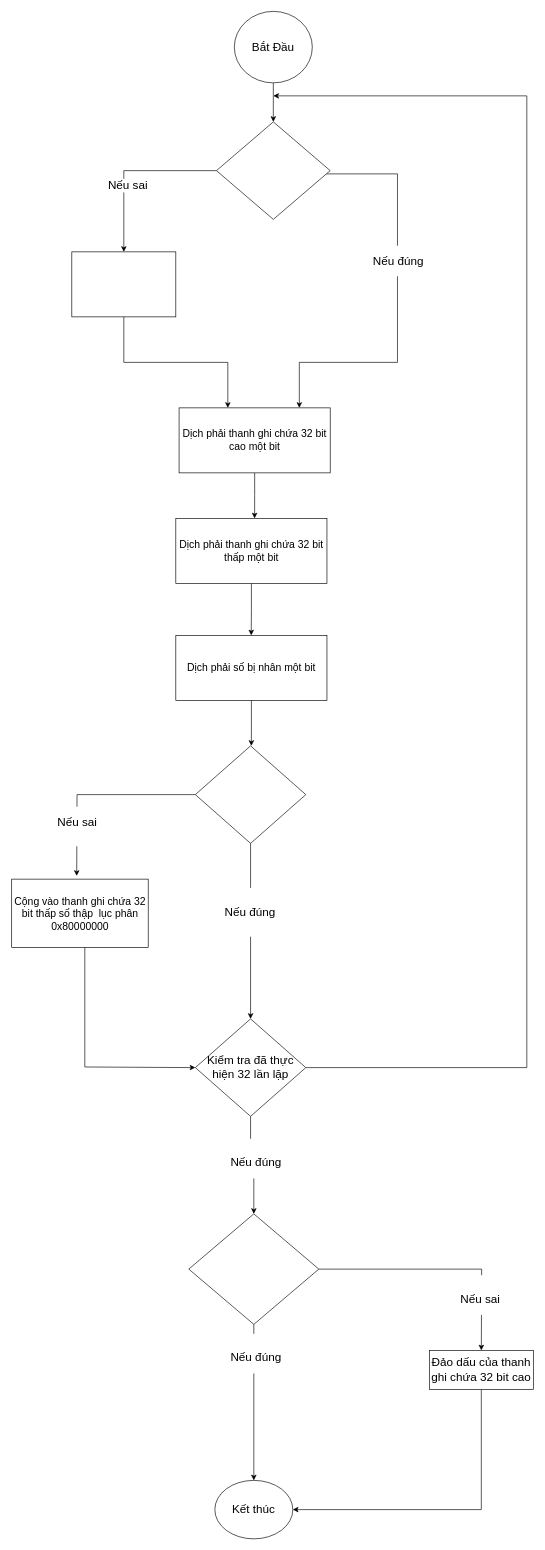
The diagram is 545 pixels wide and 1550 high, and some of its shapes have lost their labels. The centre of each missing label's shape, as x and y in pixels:
"Cộng số bị nhân vào thanh ghi chứa 32 bit cao" goes at point (123, 284).
"Kiểm tra bit cuối 32 bit cao bằng 0" goes at point (250, 794).
"Kiểm tra bit cuối số bị nhân bằng 0." goes at point (273, 170).
"Kiểm tra só nhân và số bị nhân cùng dấu" goes at point (253, 1268).
